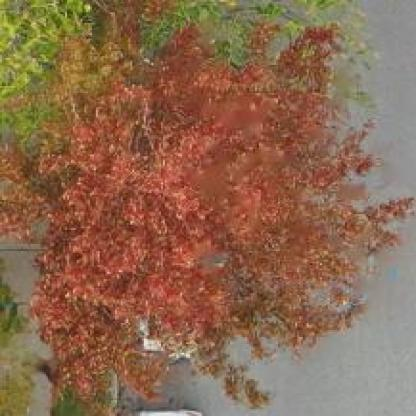Deciduous Tree: (0, 19, 364, 381)
